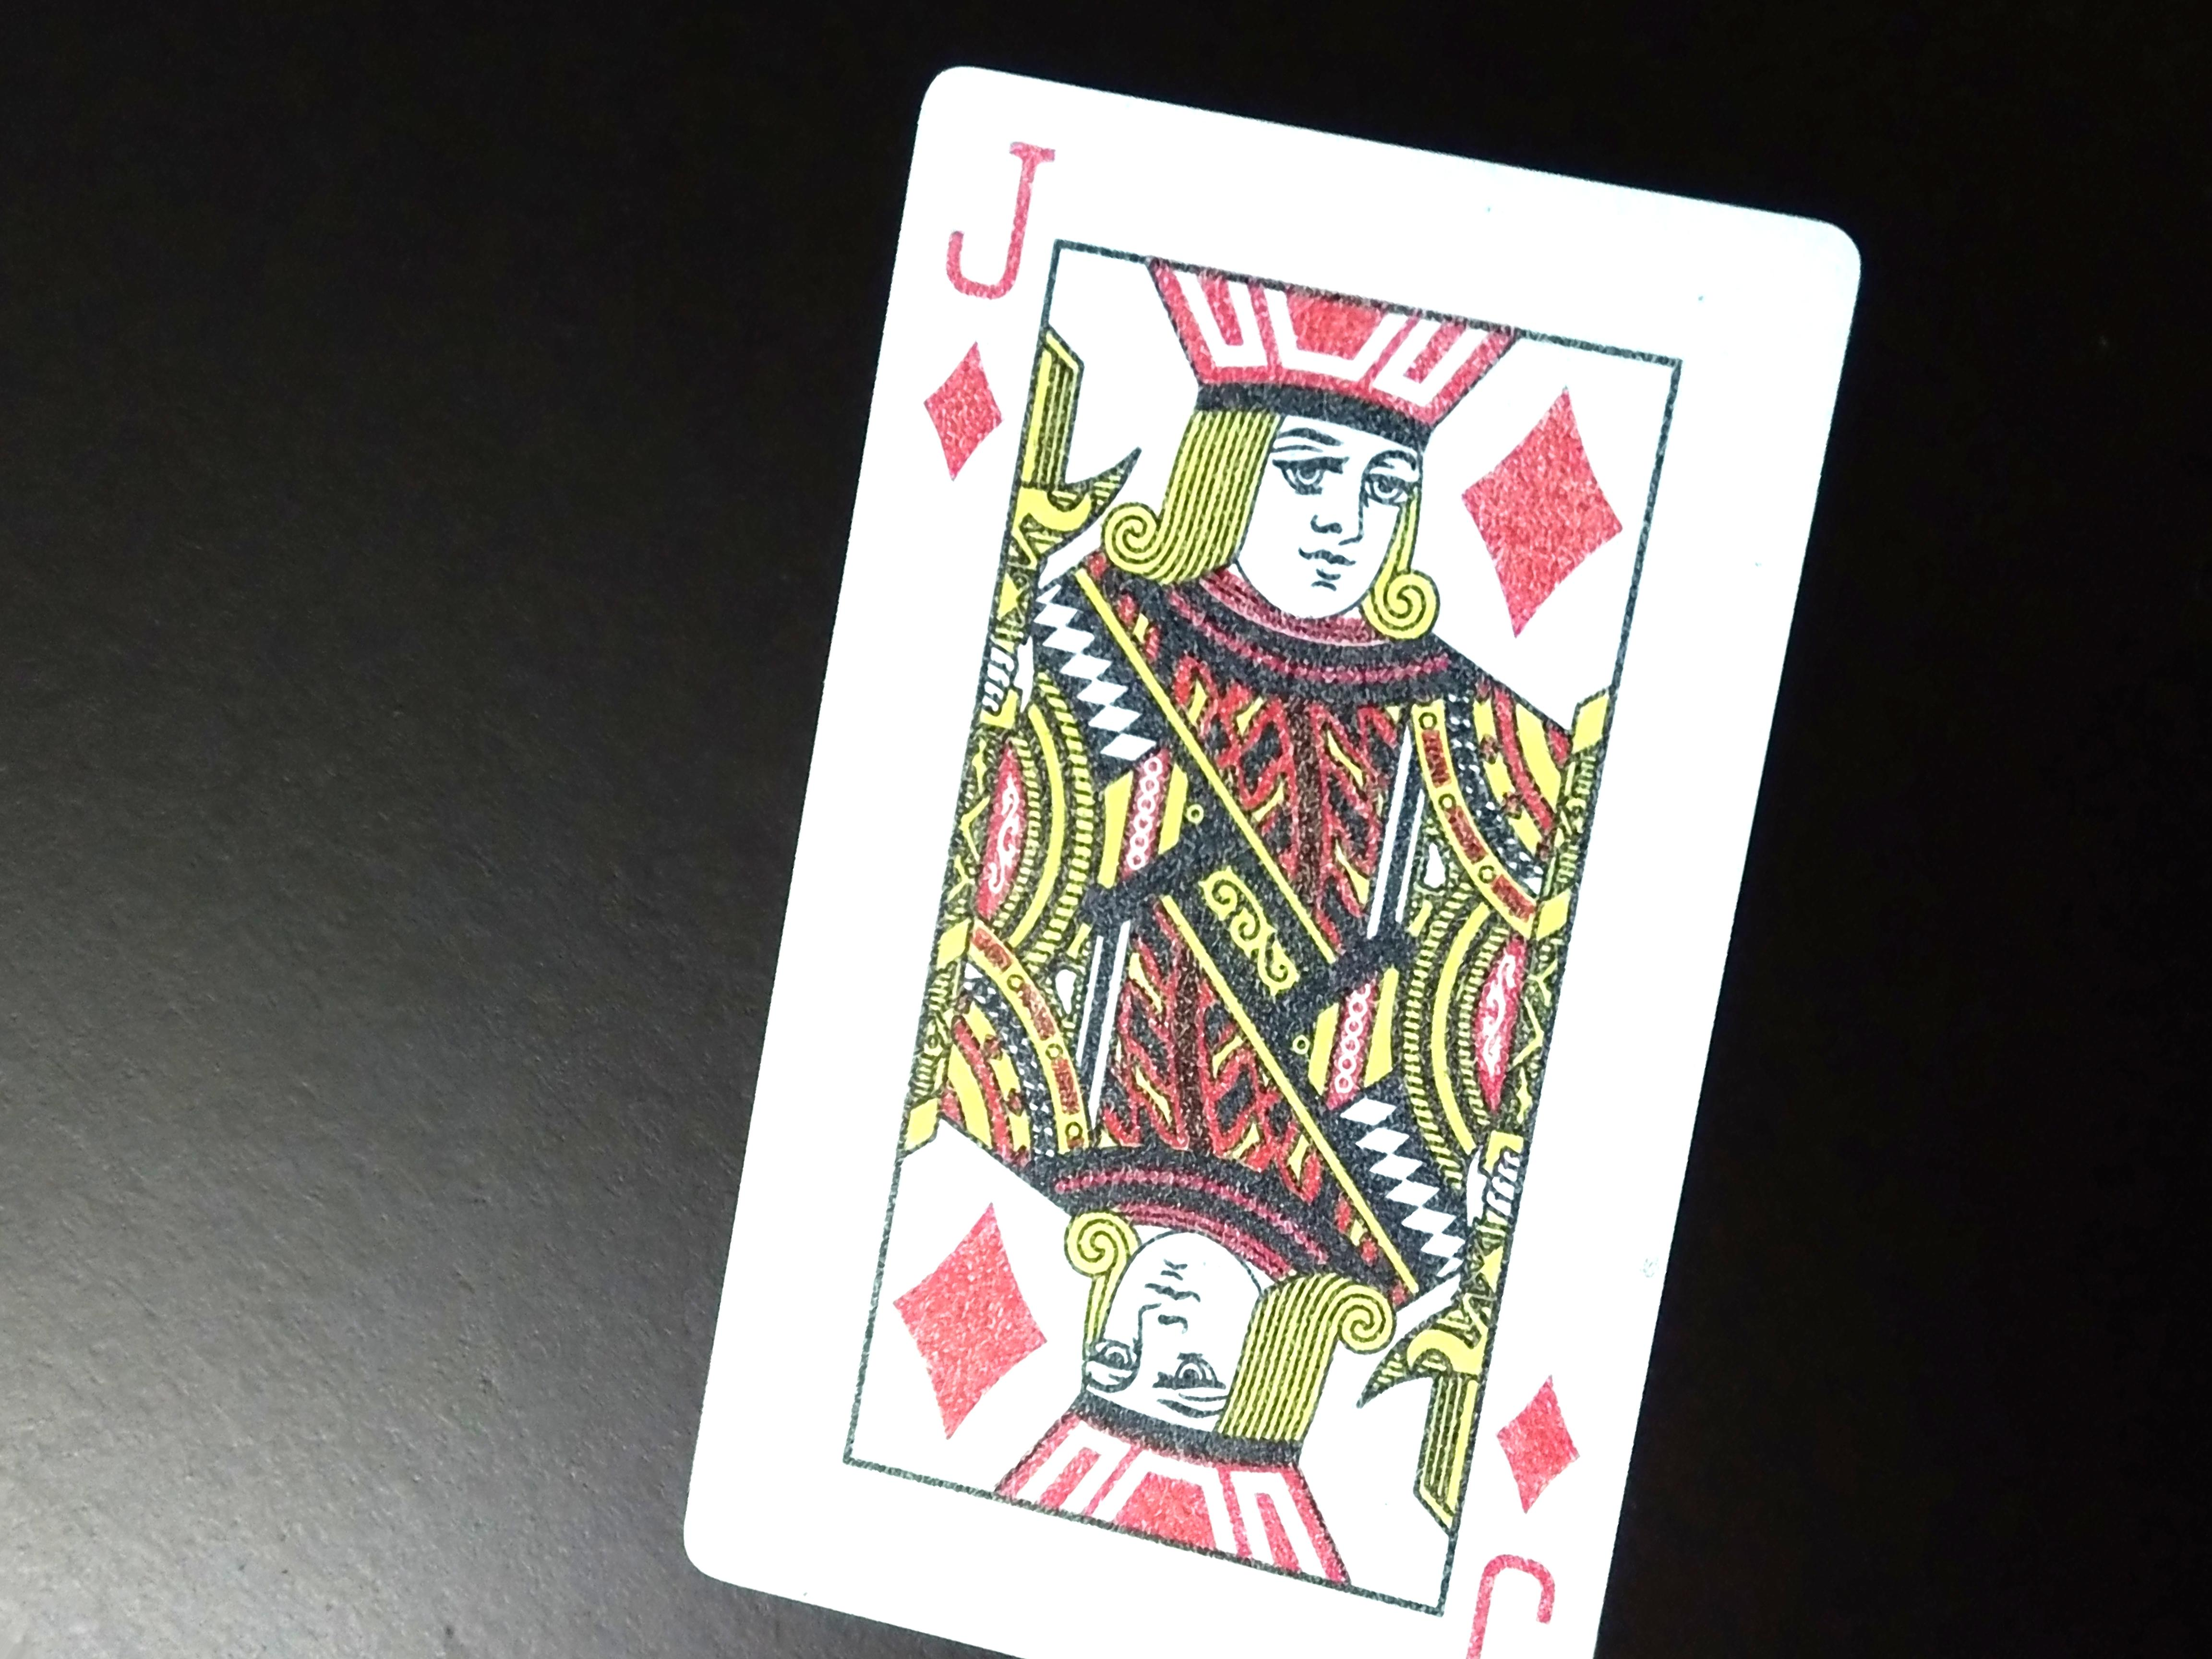JD: (928, 110, 1054, 507)
